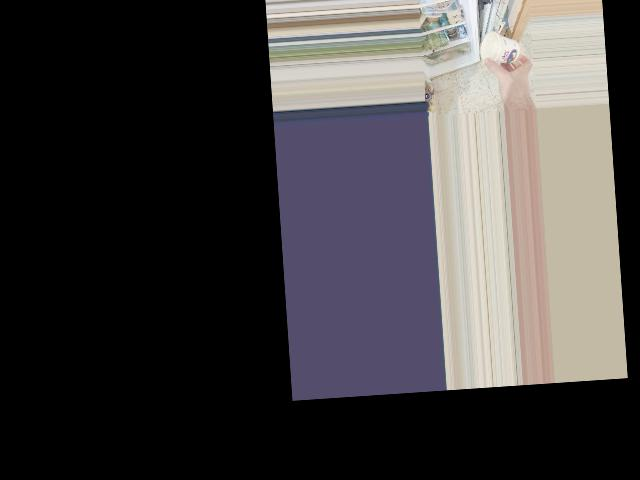cotage: (485, 27, 521, 68)
